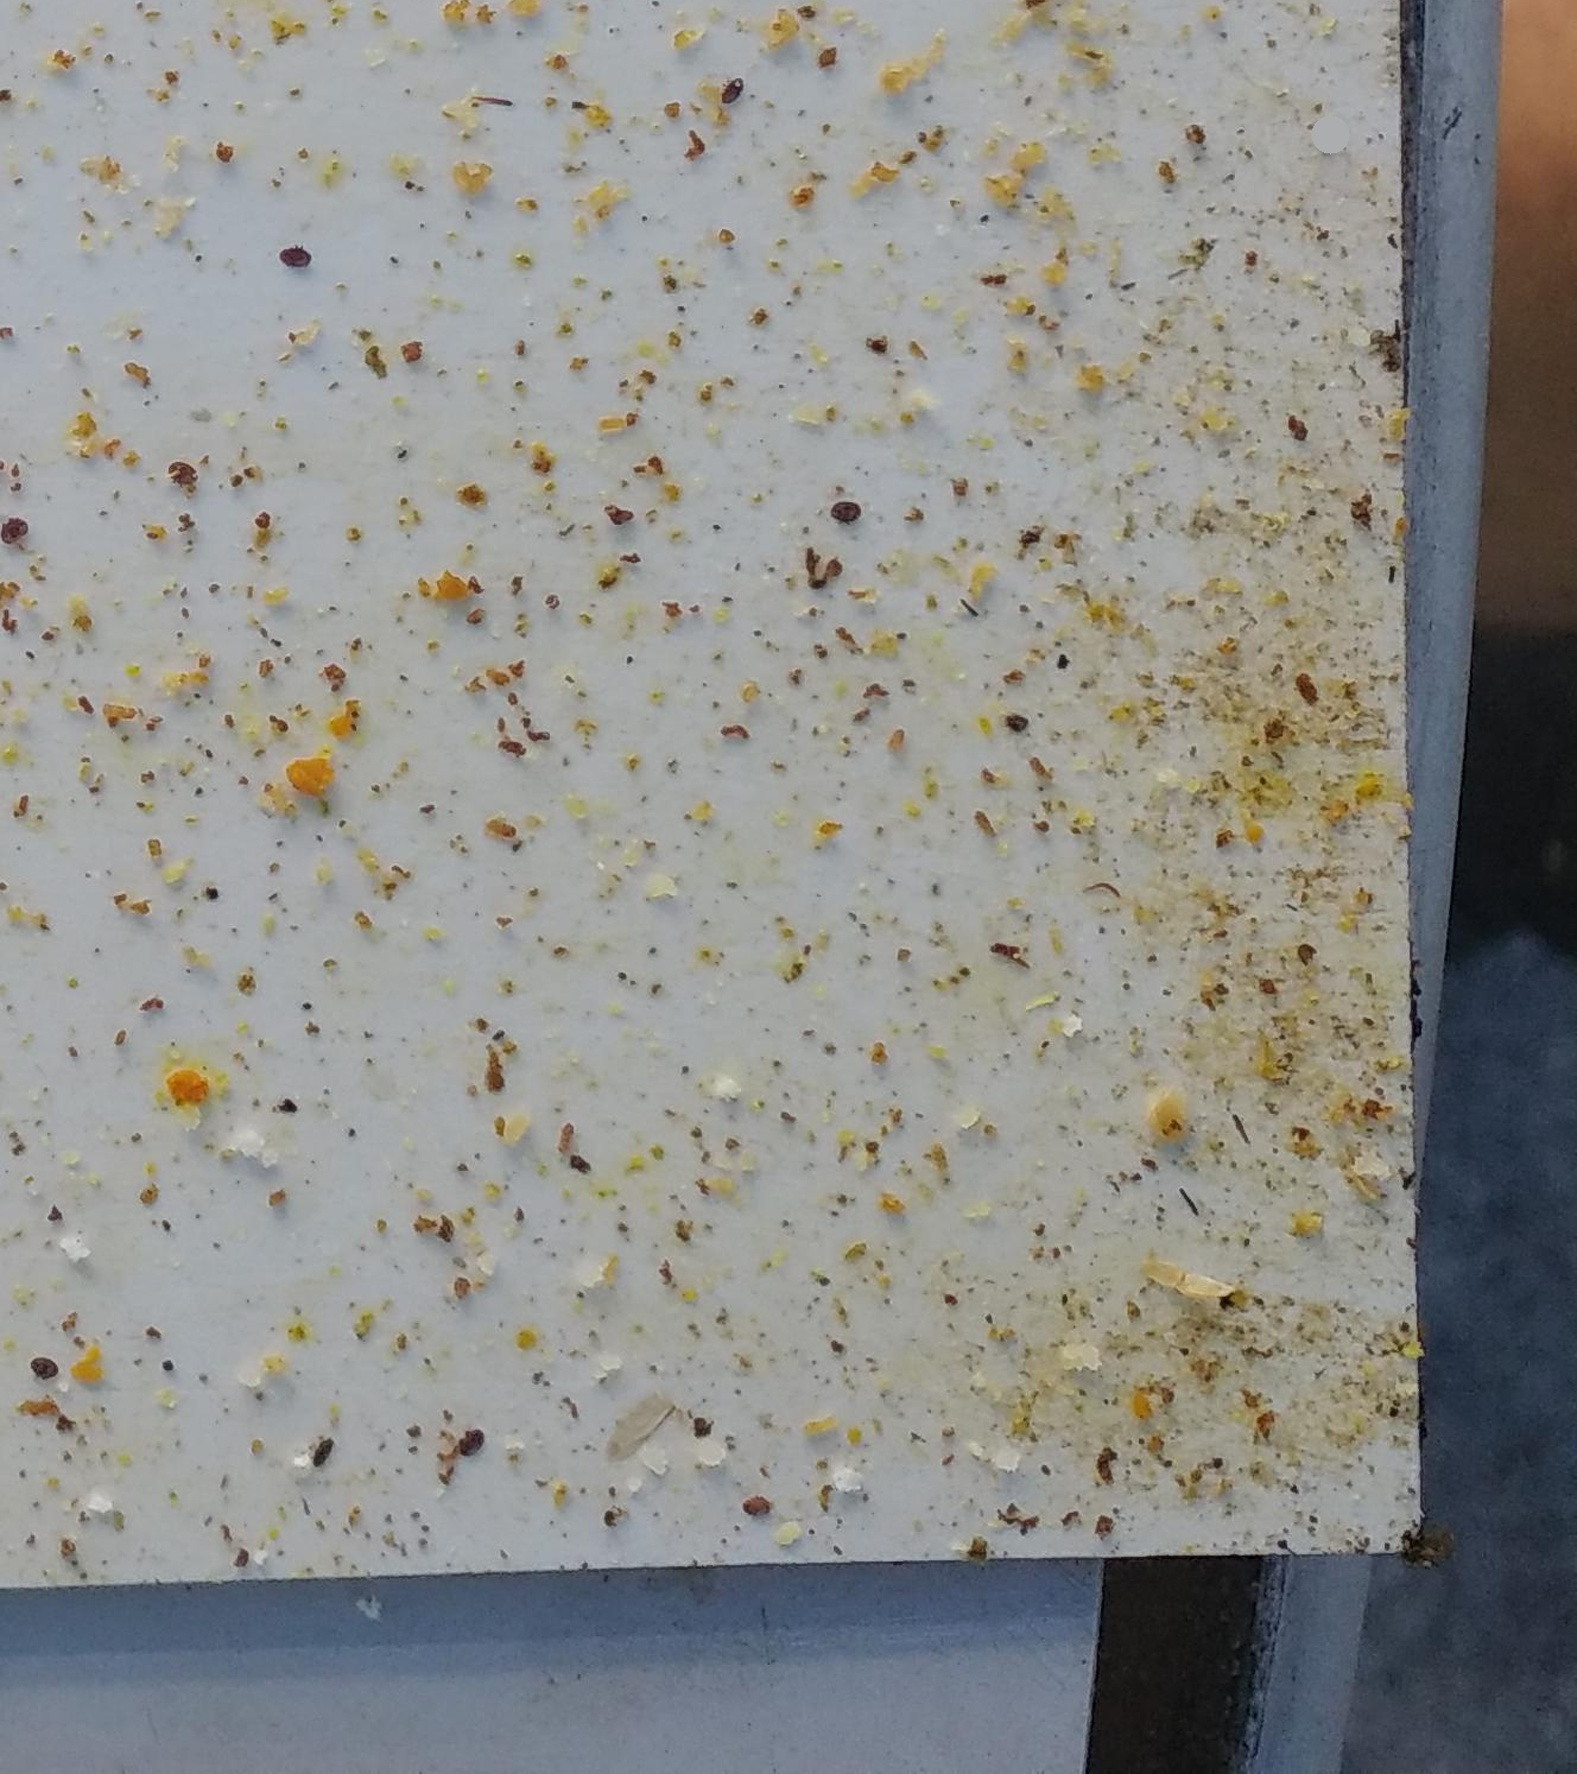Varroa: (1277, 407, 1320, 449), (1286, 933, 1327, 976), (740, 1495, 769, 1523), (170, 455, 196, 486), (836, 493, 862, 521), (30, 1351, 56, 1378), (457, 1430, 483, 1457), (717, 81, 741, 108), (291, 251, 312, 273)
